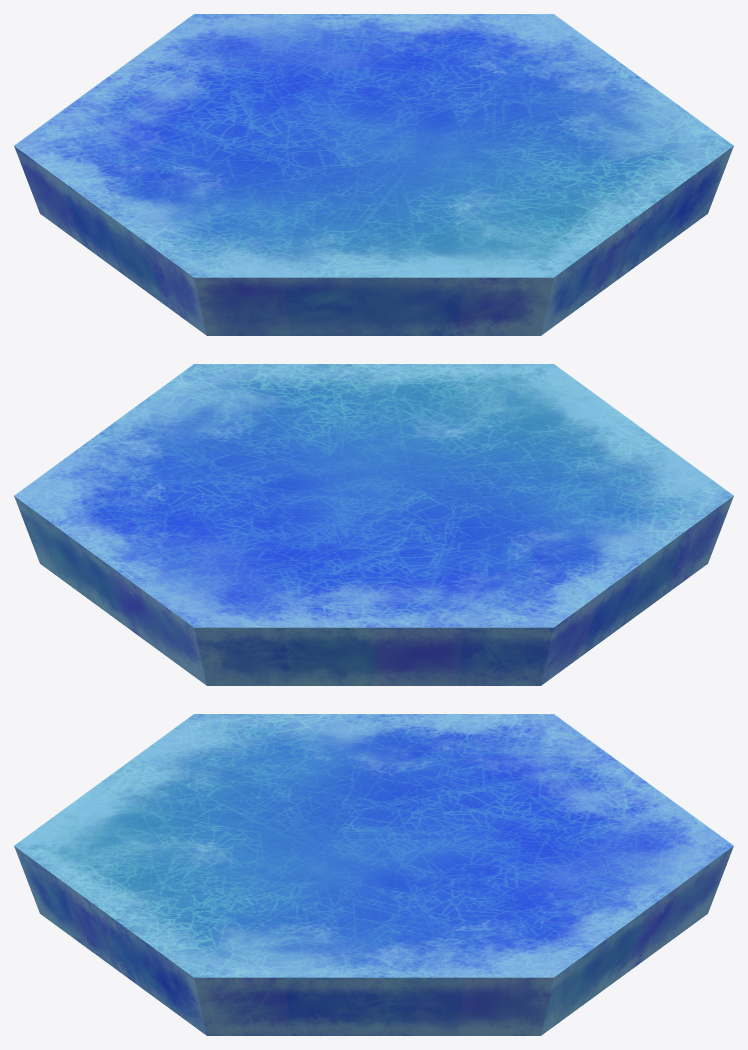
The model's file is IcePlatform_Version2_Hexagon.fbx.
The picture shows the model from 3 angles, top to bottom: view 1: azimuth 30°, elevation 25°; view 2: azimuth 150°, elevation 25°; view 3: azimuth 270°, elevation 25°; orthographic projection.
Parts seen in each view (by area): view 1: Hexagon Platform - environment; view 2: Hexagon Platform - environment; view 3: Hexagon Platform - environment.
Part boxes in pixels (bbox=[...]): Hexagon Platform - environment: bbox=[14, 14, 733, 335]; Hexagon Platform - environment: bbox=[14, 364, 733, 685]; Hexagon Platform - environment: bbox=[14, 714, 733, 1035].
Bounding box in the file's own units: 77.19 × 9.29 × 89.13.
